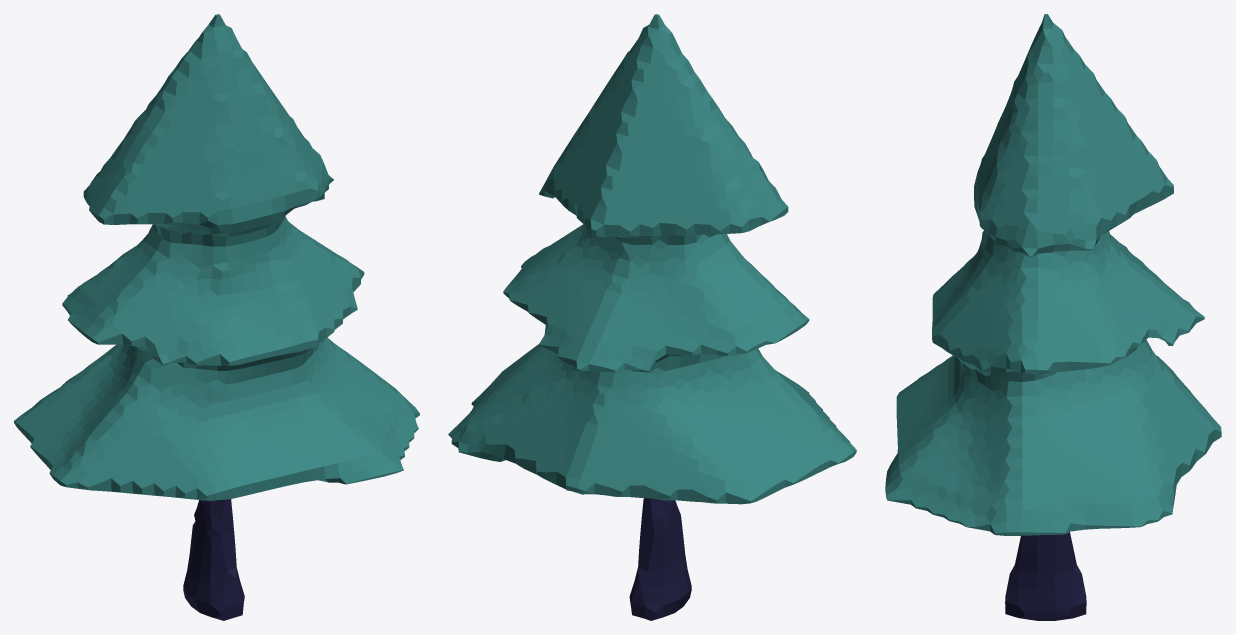
File: TREE.fbx
The picture shows the model from 3 angles, left to right: view 1: azimuth 30°, elevation 25°; view 2: azimuth 150°, elevation 25°; view 3: azimuth 270°, elevation 25°; orthographic projection.
Parts seen in each view (by area): view 1: Tree_02_Conifer_Upper_Boughs, Tree_02_Conifer_Trunk; view 2: Tree_02_Conifer_Upper_Boughs, Tree_02_Conifer_Trunk; view 3: Tree_02_Conifer_Upper_Boughs, Tree_02_Conifer_Trunk.
Part boxes in pixels (<box>): Tree_02_Conifer_Upper_Boughs: <box>14,14,419,500</box>; Tree_02_Conifer_Trunk: <box>183,499,244,620</box>; Tree_02_Conifer_Upper_Boughs: <box>448,14,856,504</box>; Tree_02_Conifer_Trunk: <box>629,498,691,620</box>; Tree_02_Conifer_Upper_Boughs: <box>885,14,1221,535</box>; Tree_02_Conifer_Trunk: <box>1005,532,1086,620</box>.
Bounding box in the file's own units: 264 × 424 × 213.
